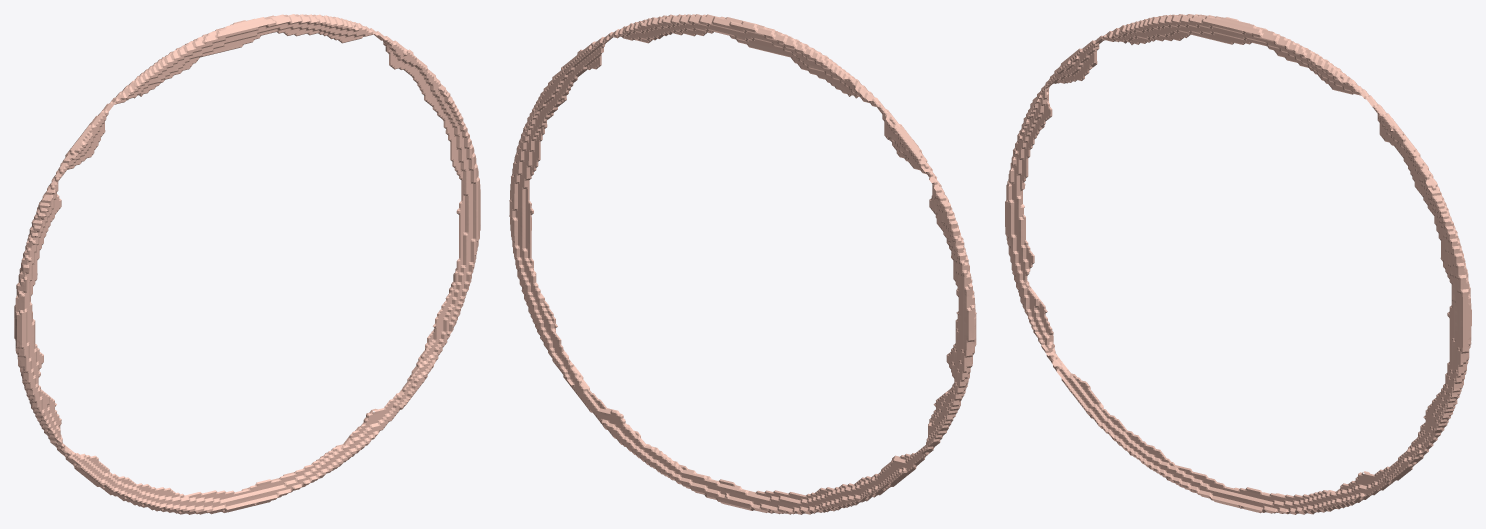
3 renders of one model, left to right at view 1: azimuth 30°, elevation 25°; view 2: azimuth 150°, elevation 25°; view 3: azimuth 330°, elevation 25°, orthographic.
Visible parts, largest first — view 1: model; view 2: model; view 3: model.
Boxes of the visible parts, bbox=[...] form: model: bbox=[14, 14, 480, 514]; model: bbox=[509, 14, 976, 514]; model: bbox=[1005, 14, 1471, 514].
Size of the model in its own units: 0.4042 by 0.404 by 0.00999.
